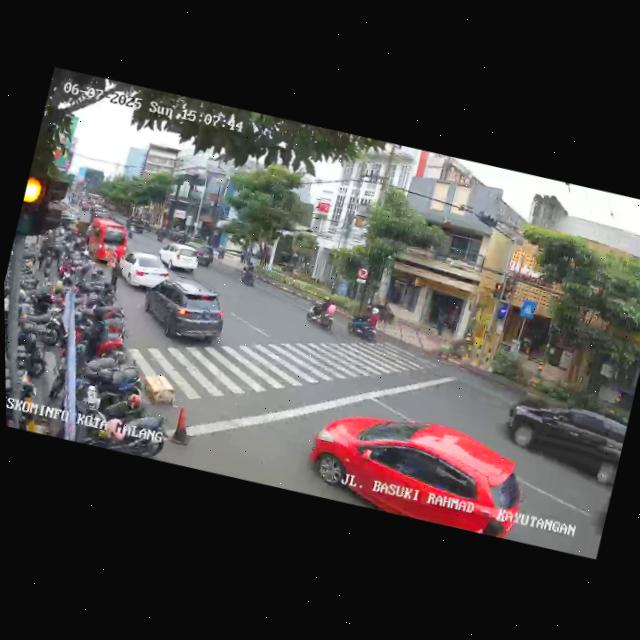car: (302, 395, 537, 544), (495, 387, 629, 491), (136, 272, 233, 354), (111, 245, 174, 299), (82, 215, 131, 268), (153, 238, 201, 276), (178, 238, 218, 270)
motorcycle: (345, 301, 383, 342), (305, 293, 340, 334), (236, 262, 258, 289)
